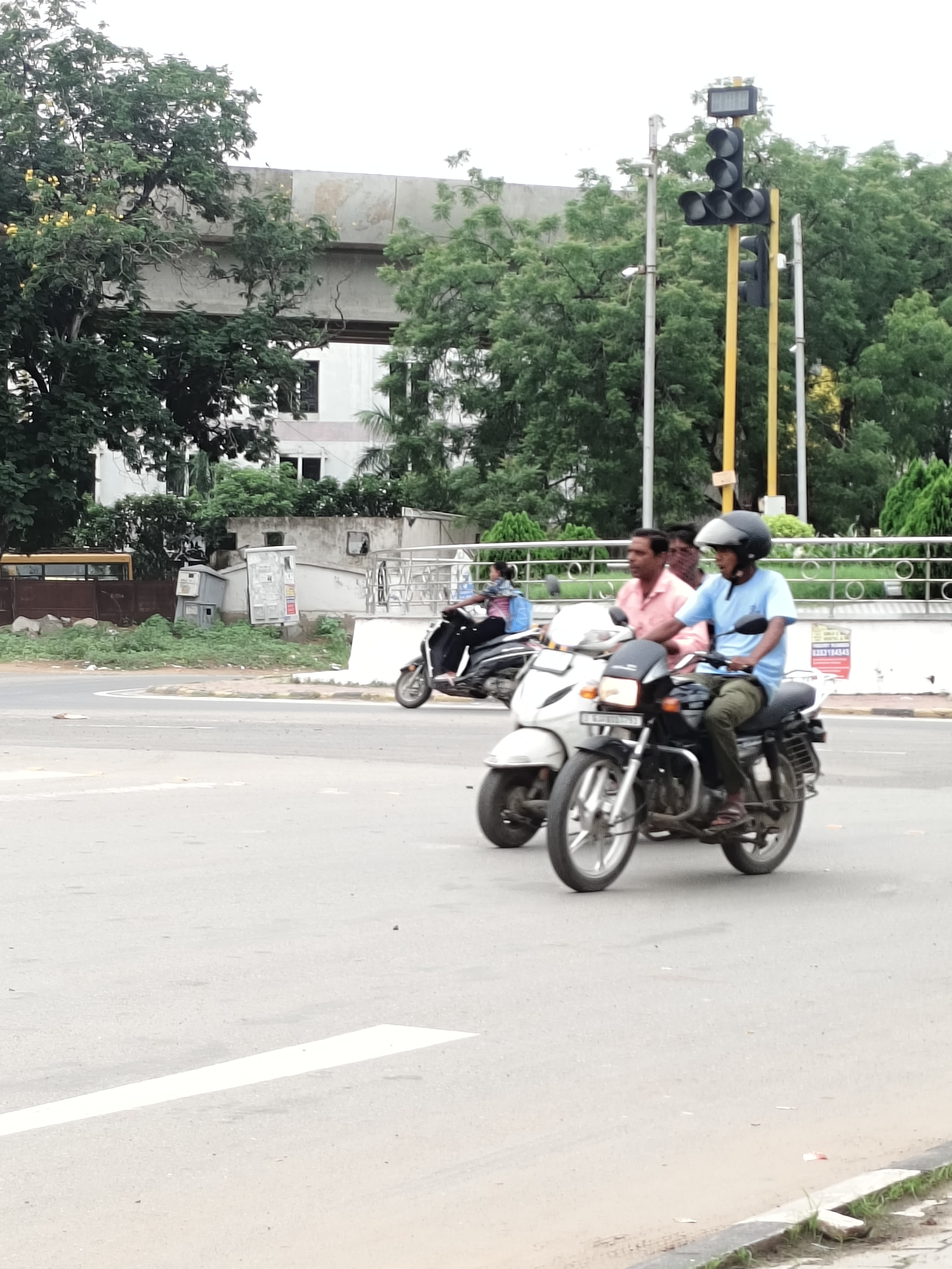BikeWithRider: (534, 503, 838, 899), (464, 521, 711, 854), (385, 555, 553, 714)
Helmet: (688, 506, 782, 578)
NoHelmet: (620, 528, 672, 582), (483, 556, 518, 585)
